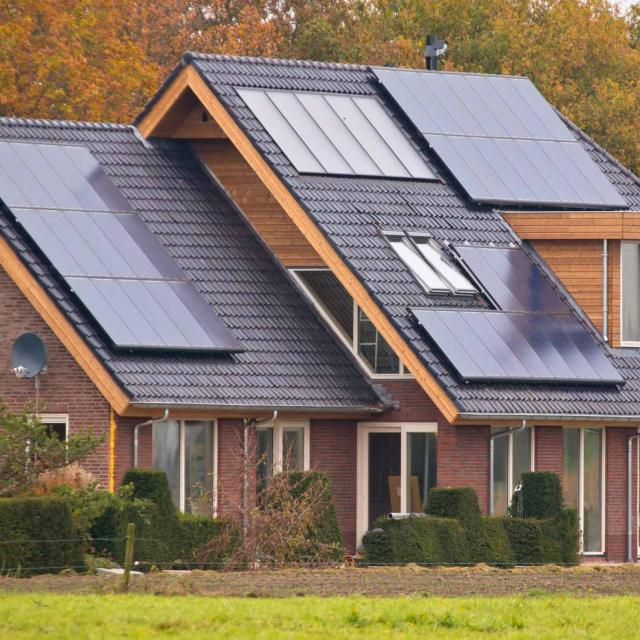clean-solar-panel: (0, 142, 241, 350), (374, 69, 629, 208), (412, 246, 624, 383)
